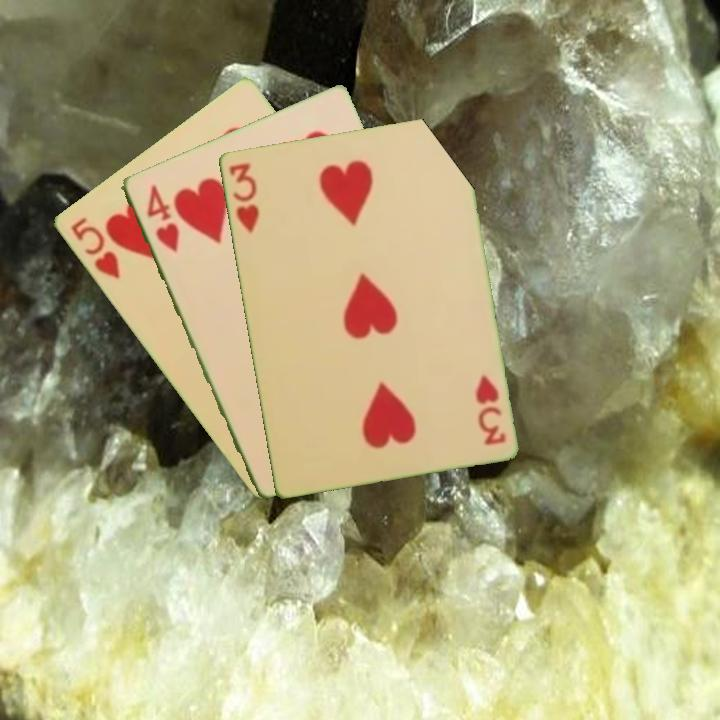3h: (224, 159, 262, 236), (471, 371, 508, 448)
4h: (142, 181, 182, 256)
5h: (66, 213, 123, 282)
